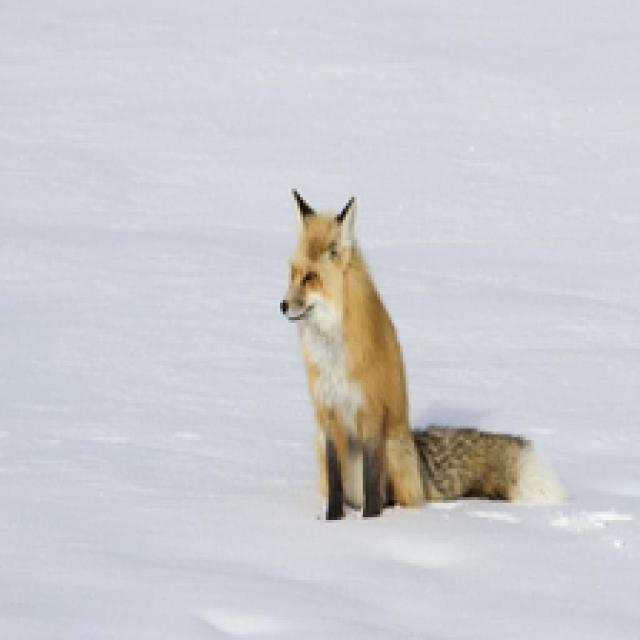fox: (252, 174, 566, 539)
